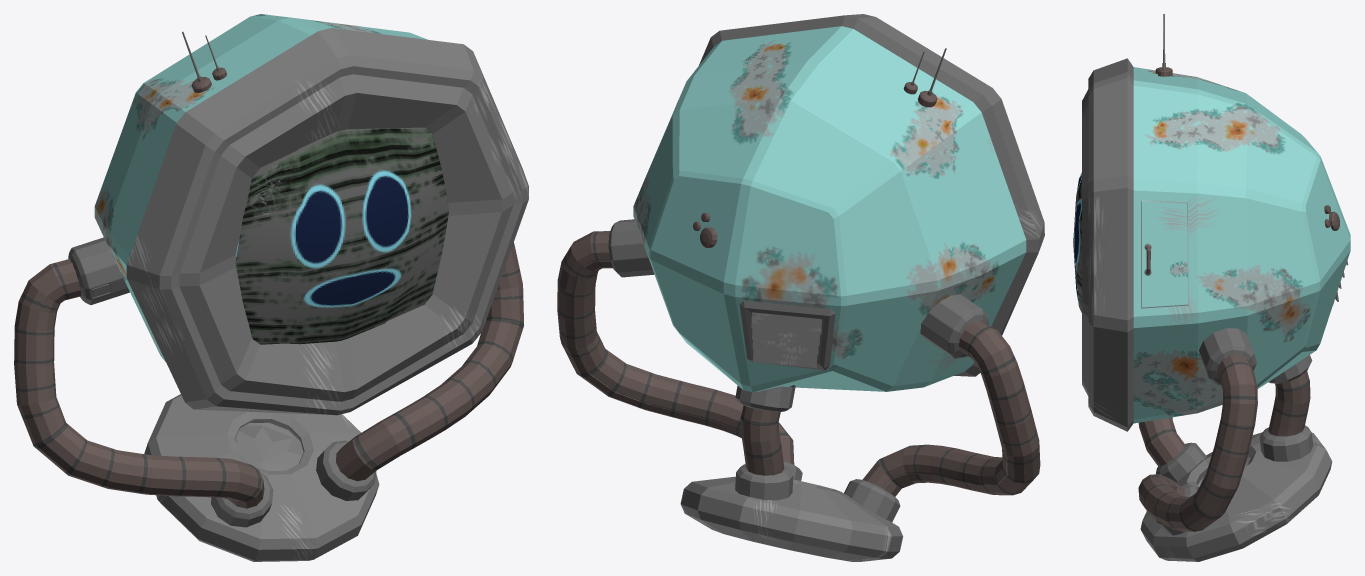
The model's file is Robo_Bud.fbx.
The picture shows the model from 3 angles, left to right: view 1: azimuth 30°, elevation 25°; view 2: azimuth 150°, elevation 25°; view 3: azimuth 270°, elevation 25°; orthographic projection. The views are drawn at different scales.
Parts seen in each view (by area): view 1: Body, Screen, Pipe, Thruster, Pipe Joint Thruster.001, Pipe Joint; view 2: Body, Pipe, Thruster, Pipe Joint, Pipe.001, Vent, Pipe Joint Thruster.001, Pipe Joint Thruster, Pipe Joint Bottom, Vent Flap.003, Vent Flap, Vent Flap.002 (+1 smaller); view 3: Body, Thruster, Pipe, Hatch Panel, Pipe.001, Pipe Joint, Pipe Joint Thruster, Pipe Joint Thruster.001, Screen, Pipe Joint Bottom.
Boxes of the visible parts, <box> form: Body: <box>94,14,528,415</box>; Screen: <box>235,127,449,344</box>; Pipe: <box>14,242,523,508</box>; Thruster: <box>144,394,379,561</box>; Pipe Joint Thruster.001: <box>211,440,376,527</box>; Pipe Joint: <box>68,237,129,304</box>; Body: <box>633,14,1044,392</box>; Pipe: <box>557,231,1040,496</box>; Thruster: <box>680,476,903,561</box>; Pipe Joint: <box>608,219,988,358</box>; Pipe.001: <box>740,405,784,475</box>; Vent: <box>739,301,835,370</box>; Pipe Joint Thruster.001: <box>783,461,900,522</box>; Pipe Joint Thruster: <box>735,464,793,500</box>; Pipe Joint Bottom: <box>735,385,795,412</box>; Vent Flap.003: <box>751,312,821,334</box>; Vent Flap: <box>753,349,817,368</box>; Vent Flap.002: <box>752,328,819,345</box>; Body: <box>1082,58,1350,431</box>; Thruster: <box>1140,432,1332,561</box>; Pipe: <box>1138,354,1257,531</box>; Hatch Panel: <box>1141,200,1188,308</box>; Pipe.001: <box>1268,371,1310,436</box>; Pipe Joint: <box>1199,328,1256,385</box>; Pipe Joint Thruster: <box>1259,425,1313,461</box>; Pipe Joint Thruster.001: <box>1156,442,1206,535</box>; Screen: <box>1073,172,1082,313</box>; Pipe Joint Bottom: <box>1268,355,1312,383</box>.
Bounding box in the file's own units: 49.15 × 51.96 × 27.21.
